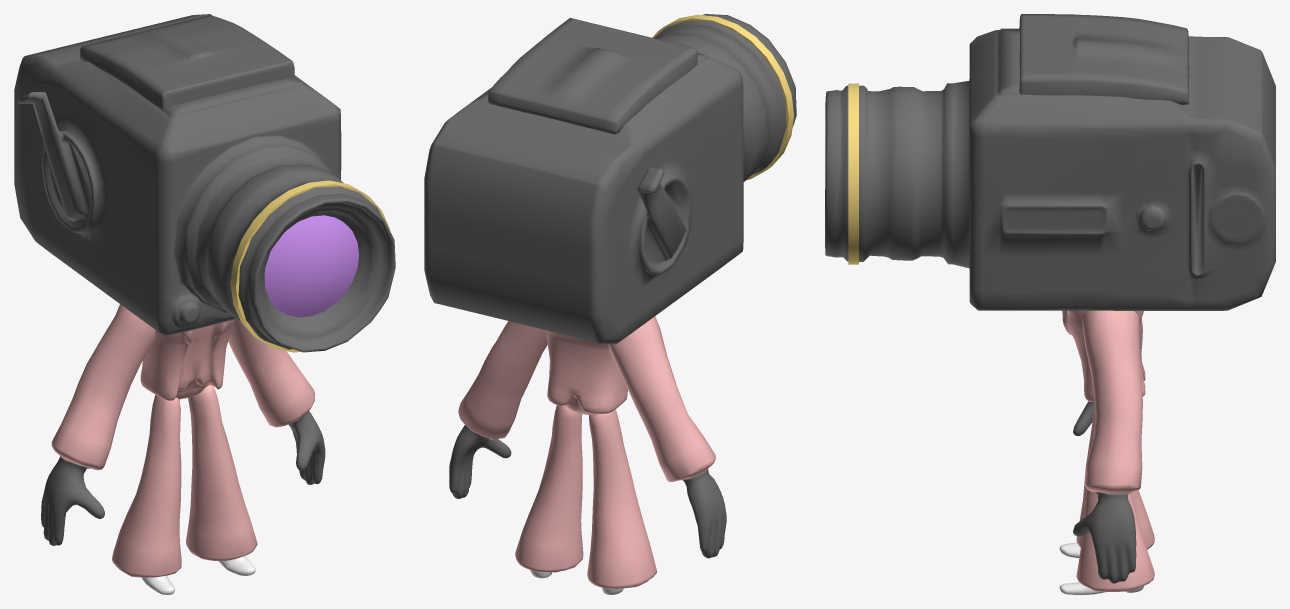
3 renders of one model, left to right at view 1: azimuth 30°, elevation 25°; view 2: azimuth 150°, elevation 25°; view 3: azimuth 270°, elevation 25°, orthographic. The views are drawn at different scales.
Visible parts, largest first — view 1: head_retopo_body.001, head_lid1.001, leg.001, sleeve.001, leg_3, lens, torso_002, sleeve_2, glove.001, Tube, glove_2; view 2: head_retopo_body.001, head_lid1.001, leg.001, sleeve.001, leg_3, sleeve_2, torso_002, glove.001, glove_2, Tube; view 3: head_retopo_body.001, head_lid1.001, sleeve_2, glove_2, leg_3, Tube, torso_002, leg.001.
Boxes of the visible parts, left/top/right/bottom form: head_retopo_body.001: left=14, top=14, right=395, bottom=352; head_lid1.001: left=80, top=15, right=294, bottom=109; leg.001: left=112, top=395, right=181, bottom=577; sleeve.001: left=51, top=304, right=155, bottom=470; leg_3: left=186, top=385, right=257, bottom=560; lens: left=264, top=215, right=358, bottom=317; torso_002: left=140, top=319, right=235, bottom=400; sleeve_2: left=228, top=319, right=314, bottom=427; glove.001: left=41, top=456, right=104, bottom=545; Tube: left=230, top=180, right=389, bottom=352; glove_2: left=288, top=411, right=325, bottom=484; head_retopo_body.001: left=424, top=14, right=796, bottom=344; head_lid1.001: left=488, top=18, right=697, bottom=134; leg.001: left=587, top=409, right=656, bottom=588; sleeve.001: left=608, top=316, right=715, bottom=481; leg_3: left=515, top=405, right=583, bottom=572; sleeve_2: left=458, top=321, right=547, bottom=439; torso_002: left=545, top=330, right=627, bottom=415; glove.001: left=682, top=469, right=726, bottom=558; glove_2: left=449, top=425, right=511, bottom=498; Tube: left=652, top=14, right=793, bottom=179; head_retopo_body.001: left=825, top=28, right=1275, bottom=310; head_lid1.001: left=1019, top=14, right=1189, bottom=104; sleeve_2: left=1082, top=310, right=1142, bottom=493; glove_2: left=1073, top=492, right=1136, bottom=583; leg_3: left=1076, top=419, right=1154, bottom=591; Tube: left=848, top=83, right=858, bottom=264; torso_002: left=1062, top=310, right=1145, bottom=402; leg.001: left=1076, top=404, right=1154, bottom=549.
Size of the model in its own units: 298 by 553 by 427.
